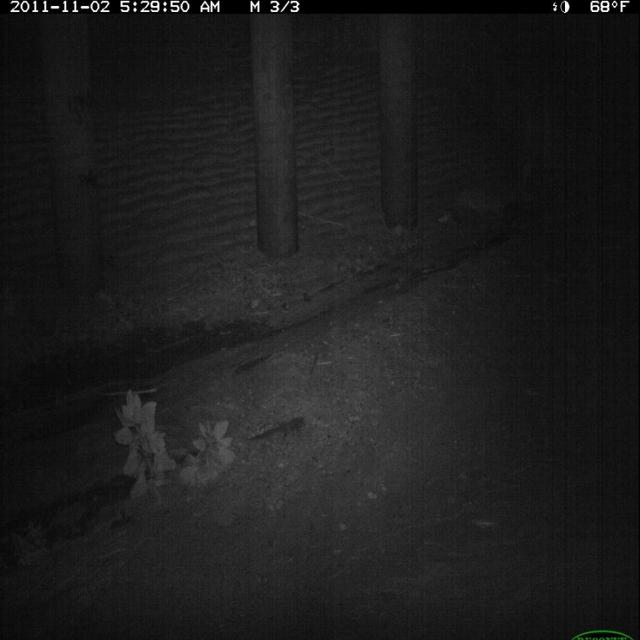opossum: (495, 190, 534, 237)
